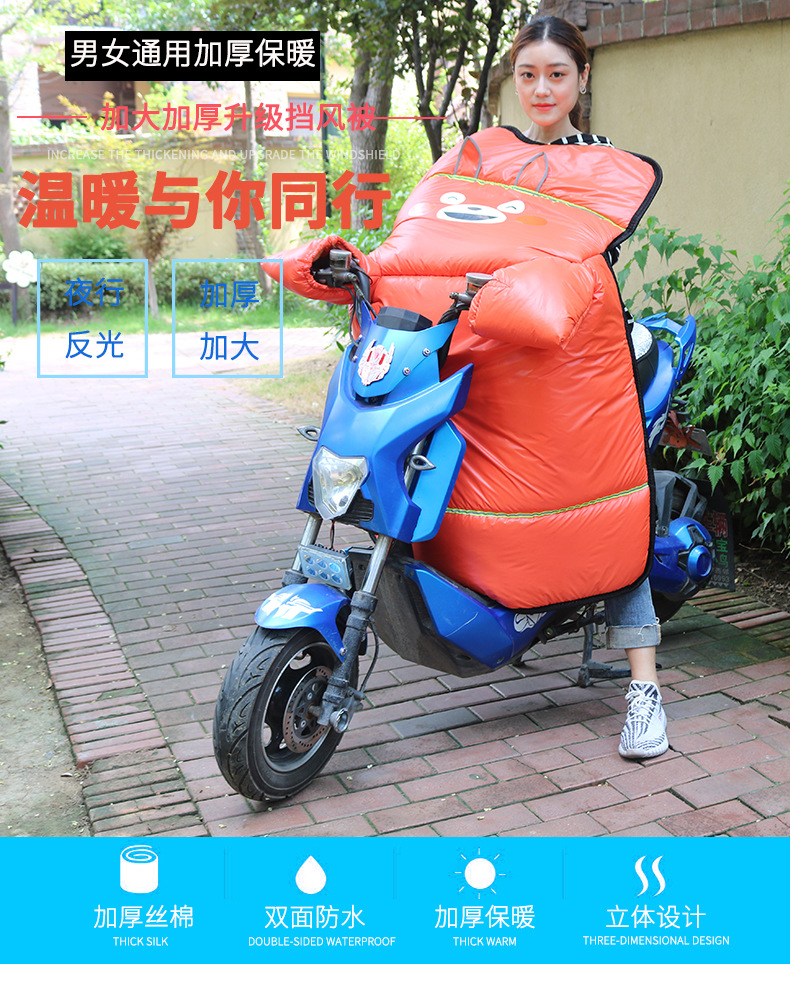电动车: (197, 233, 734, 805)
